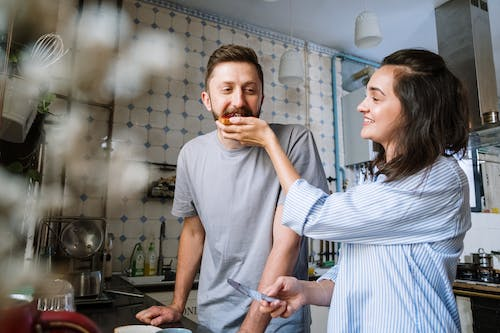knife: (226, 277, 277, 304)
